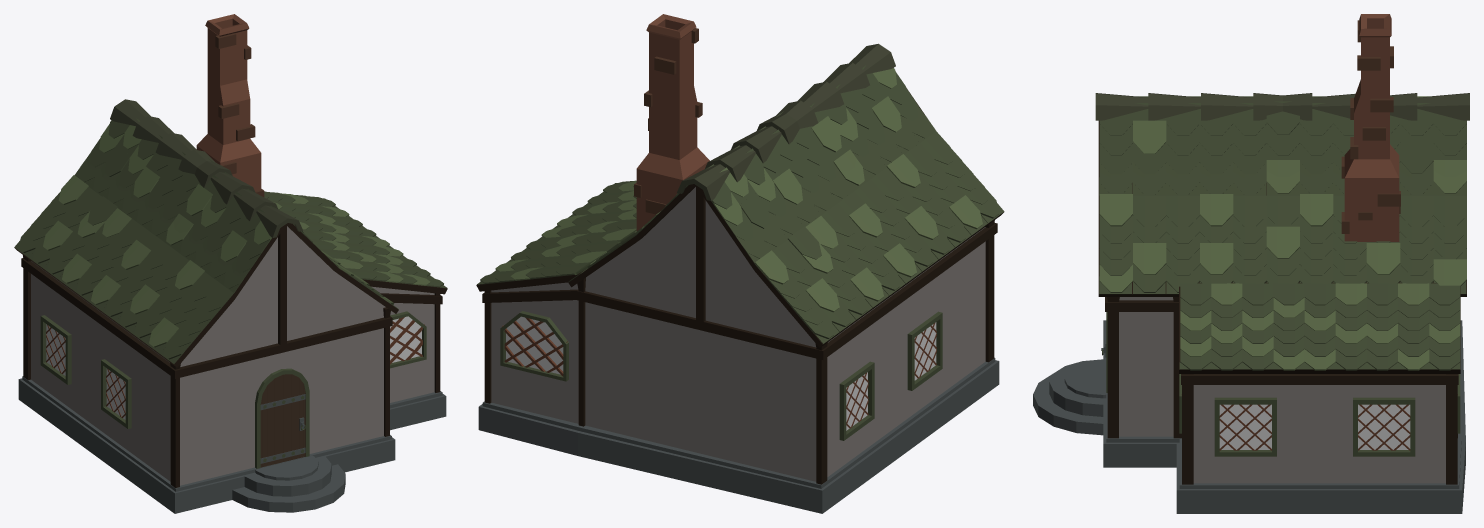
Rendered from SM_hous_04_B.gltf.
The picture shows the model from 3 angles, left to right: view 1: azimuth 30°, elevation 25°; view 2: azimuth 150°, elevation 25°; view 3: azimuth 270°, elevation 25°; orthographic projection. The views are drawn at different scales.
Visible parts, largest first — view 1: SM_hous_04_B; view 2: SM_hous_04_B; view 3: SM_hous_04_B.
Boxes of the visible parts, x1=… form: SM_hous_04_B: x1=14, y1=14, x2=447, y2=513; SM_hous_04_B: x1=476, y1=14, x2=1004, y2=513; SM_hous_04_B: x1=1033, y1=14, x2=1469, y2=513.
Size of the model in its own units: 7.51 by 8.41 by 7.96.
